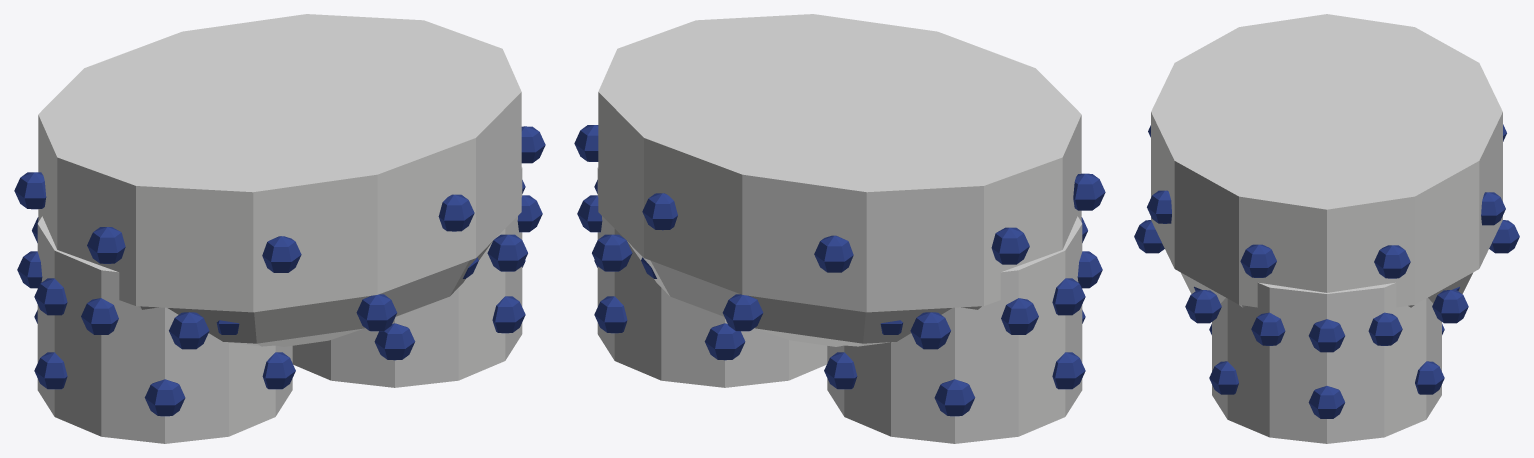
File: pants_family.glb
3 renders of one model, left to right at view 1: azimuth 30°, elevation 25°; view 2: azimuth 150°, elevation 25°; view 3: azimuth 270°, elevation 25°, orthographic. The views are drawn at different scales.
Parts seen in each view (by area): view 1: Torso, LegL, LegR; view 2: Torso, LegL, LegR; view 3: Torso, LegR.
Boxes of the visible parts, box(x1,y1,x2,y2) form: Torso: box(14, 14, 545, 349); LegL: box(17, 216, 295, 443); LegR: box(292, 167, 542, 387); Torso: box(574, 14, 1105, 349); LegL: box(824, 216, 1102, 443); LegR: box(577, 167, 827, 387); Torso: box(1134, 14, 1519, 352); LegR: box(1194, 282, 1459, 443).
Bounding box in the file's own units: 0.5446 × 0.28 × 0.42.
